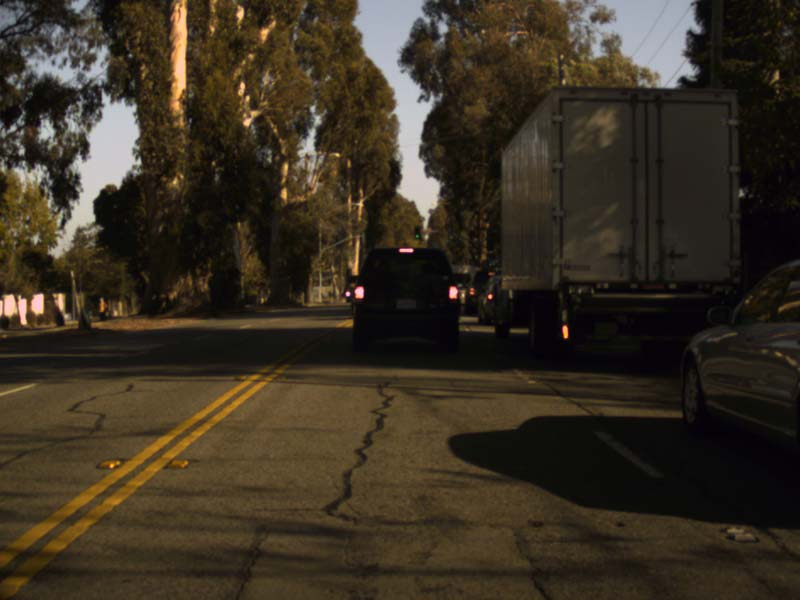Green: (414, 226, 421, 239)
